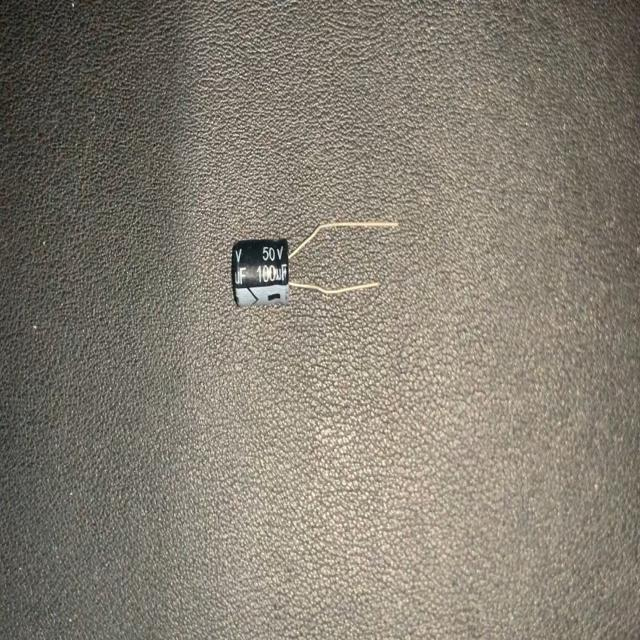capacitor: (226, 206, 405, 321)
